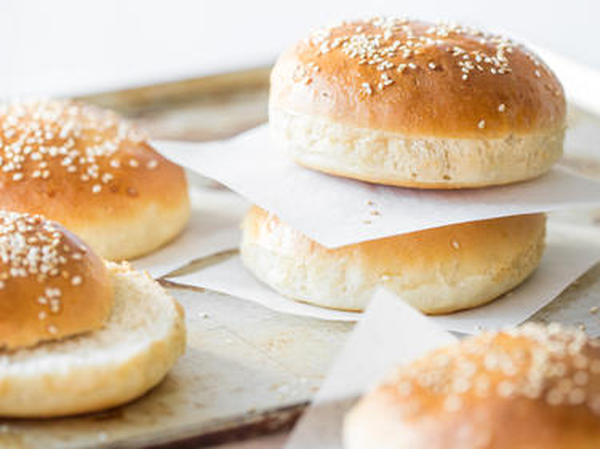burger_bun_bottom: (5, 260, 185, 422), (260, 96, 569, 190), (237, 235, 547, 313), (63, 195, 206, 258)
burger_bun_top: (270, 15, 574, 133), (347, 324, 600, 444), (238, 191, 547, 270), (1, 96, 194, 222), (1, 212, 113, 337)
